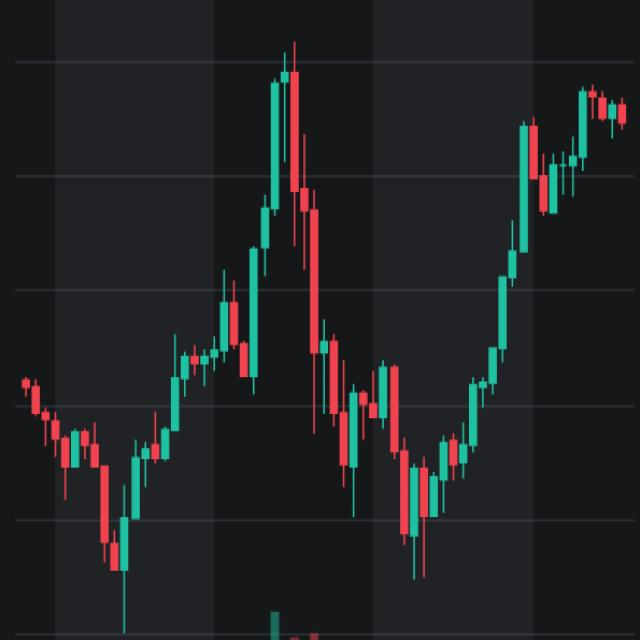Resistance-Emerging: (116, 14, 633, 586)
